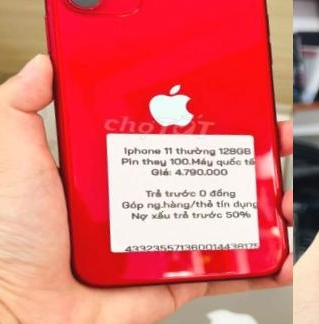scratch: (141, 246, 254, 285), (52, 0, 108, 16)
